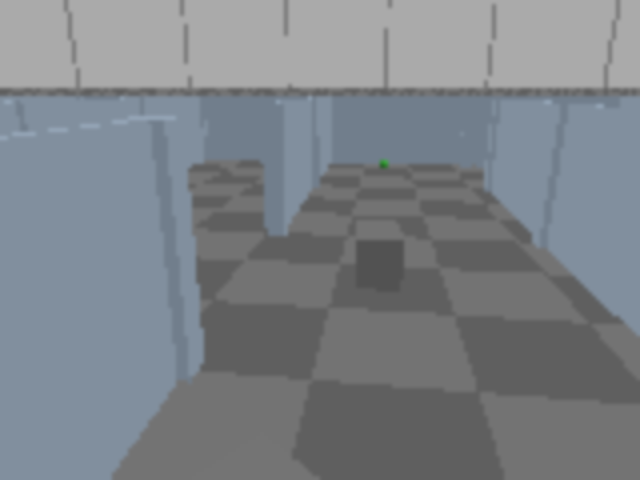obstacle: (151, 433, 331, 478)
